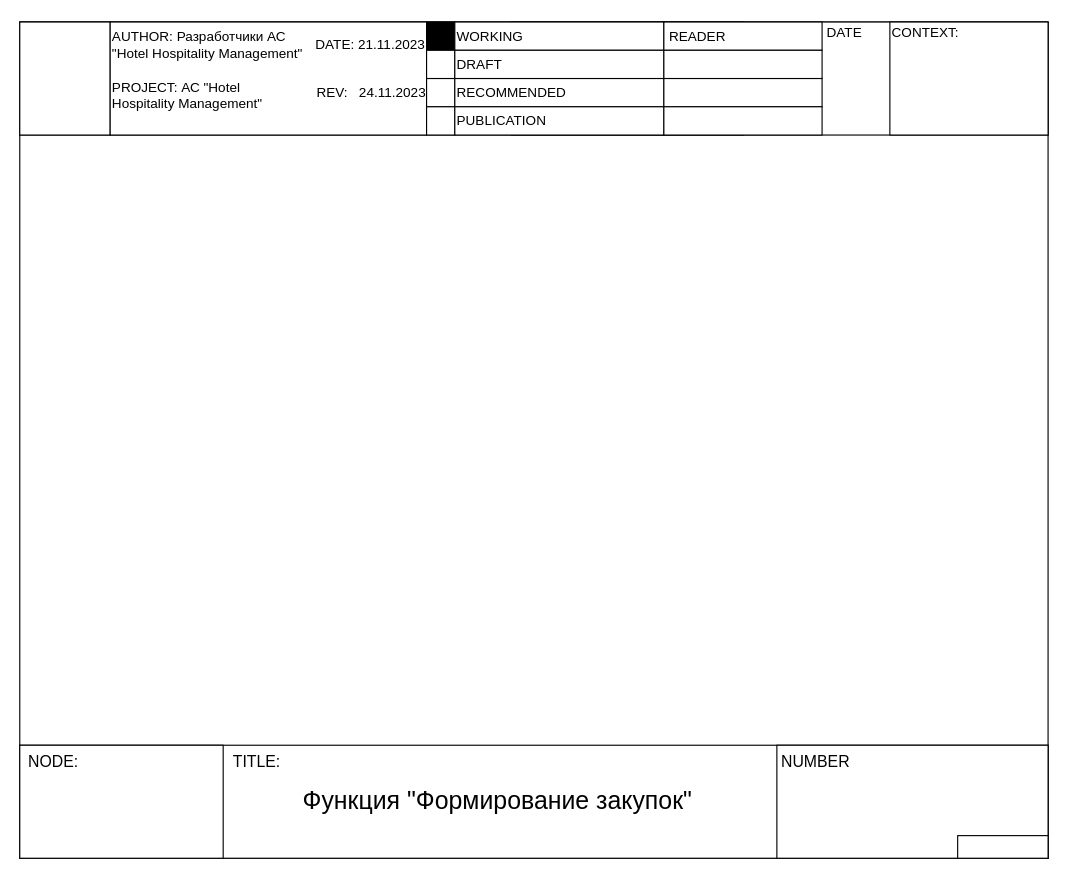
Some shapes in this 1068 by 878 pixel diagram are drawn without their labels. Each missing label, with the box of its shape:
A0: (889, 21, 1048, 135)
USED AT:: (19, 21, 110, 135)
А5: (19, 744, 223, 858)
